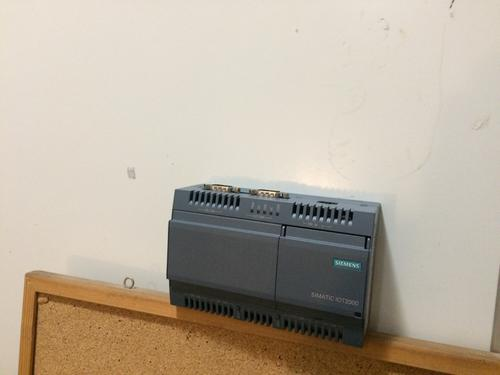iot2000: (165, 182, 381, 350)
